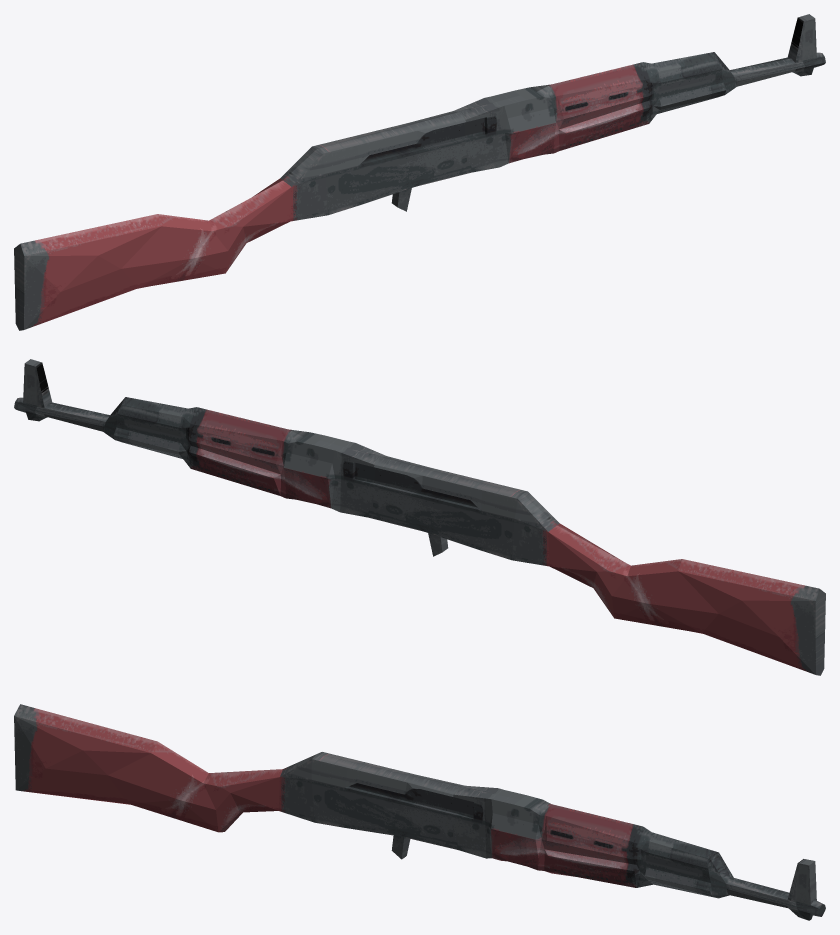
The model's file is affine.glb.
3 views of the same model, one above another, from view 1: azimuth 30°, elevation 25°; view 2: azimuth 150°, elevation 25°; view 3: azimuth 330°, elevation 25° (orthographic).
Parts seen in each view (by area): view 1: Affine; view 2: Affine; view 3: Affine.
Boxes of the visible parts, x1,y1,x2,y2 form: Affine: (14,14,825,330); Affine: (14,359,825,675); Affine: (14,704,825,920).
Size of the model in its own units: 4.07 by 0.587 by 0.1804.
Materials: 1 (1 with a texture image).
